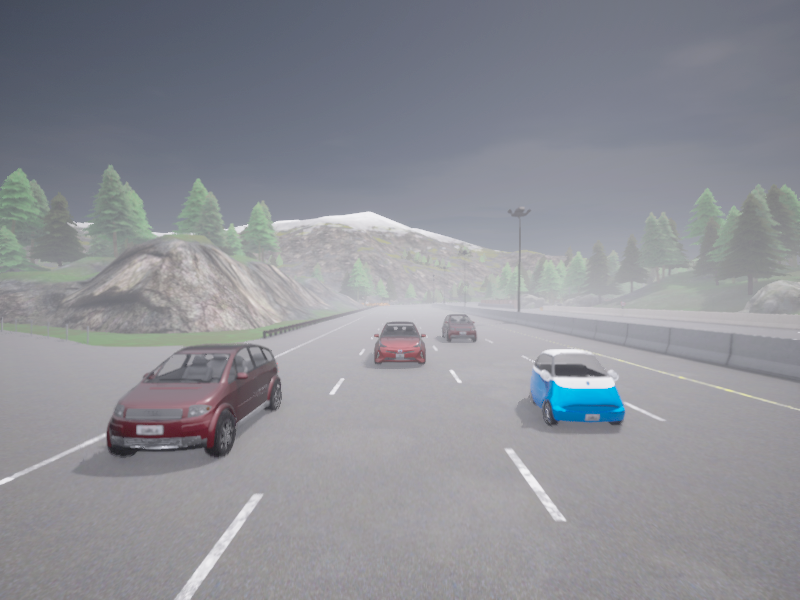vehicle: (106, 343, 281, 456), (530, 349, 625, 425), (374, 321, 425, 364), (442, 314, 476, 342), (442, 301, 446, 304)
